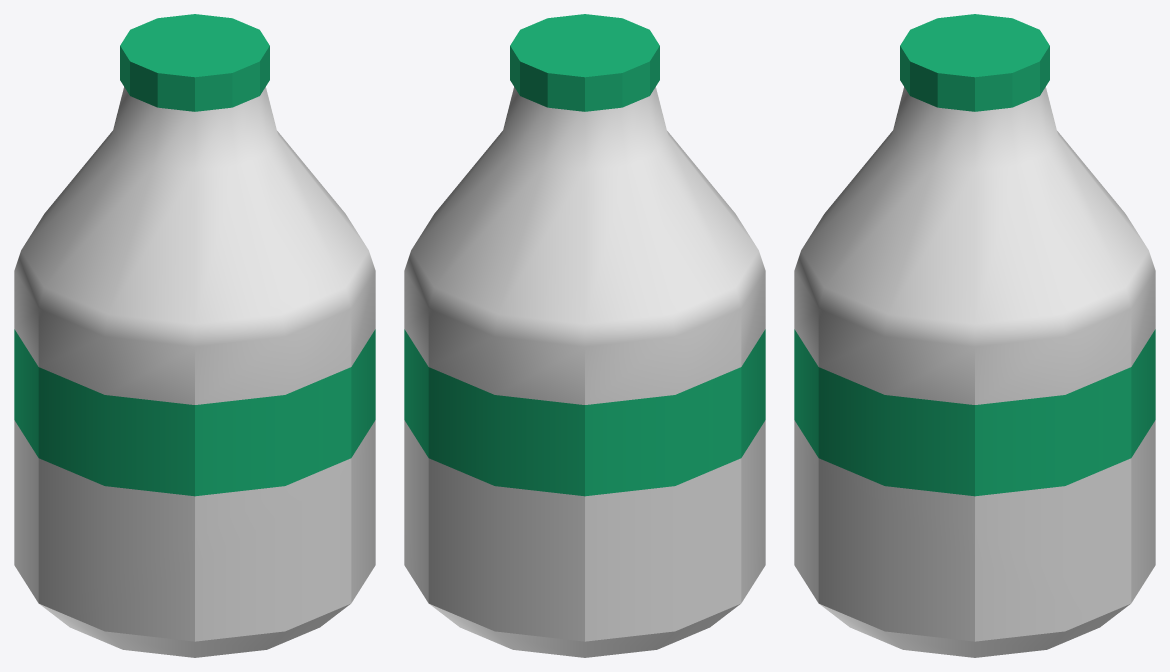
The model's file is Ürün63.fbx.
The picture shows the model from 3 angles, left to right: view 1: azimuth 30°, elevation 25°; view 2: azimuth 150°, elevation 25°; view 3: azimuth 270°, elevation 25°; orthographic projection.
Parts seen in each view (by area): view 1: pCylinder39; view 2: pCylinder39; view 3: pCylinder39.
Part boxes in pixels (bbox=[...]): pCylinder39: bbox=[14, 14, 375, 657]; pCylinder39: bbox=[404, 14, 765, 657]; pCylinder39: bbox=[794, 14, 1155, 657].
Bounding box in the file's own units: 22.2 × 37.39 × 22.2.
